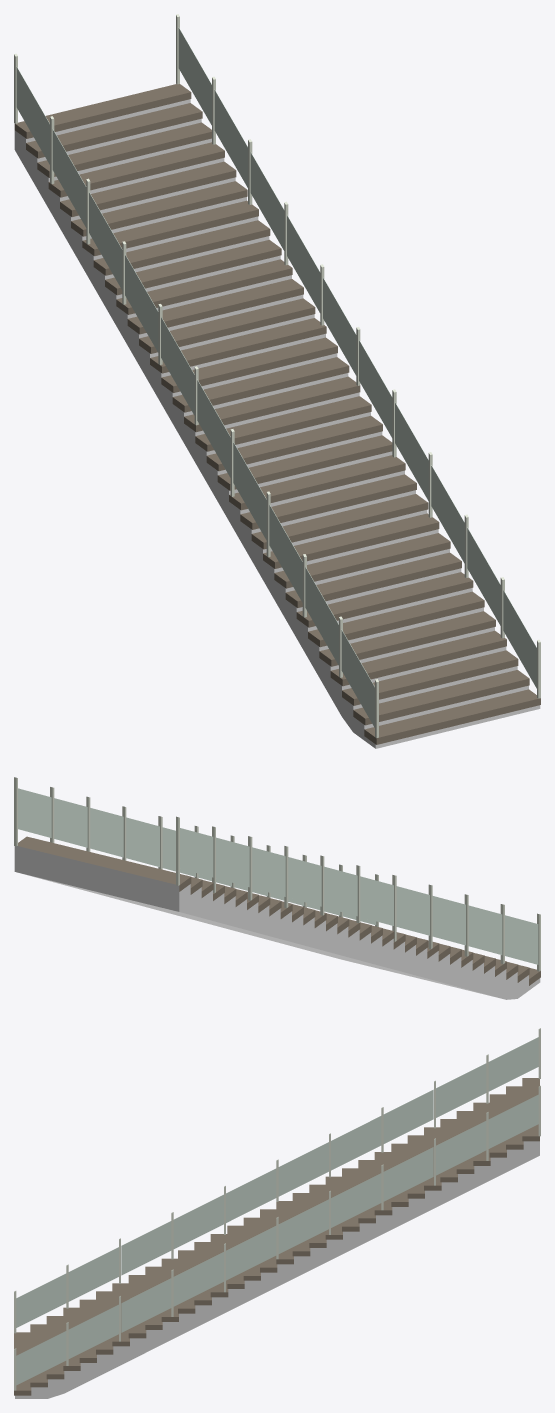
The model's file is stairsTest.fbx.
3 views of the same model, one above another, from view 1: azimuth 30°, elevation 25°; view 2: azimuth 150°, elevation 25°; view 3: azimuth 270°, elevation 25° (orthographic). The views are drawn at different scales.
Parts seen in each view (by area): view 1: Stair.001; view 2: Stair.001; view 3: Stair.001.
Part boxes in pixels (x1,y1,x2,y2): Stair.001: (14,14,540,748); Stair.001: (14,777,540,999); Stair.001: (14,1028,540,1398).
Size of the model in its own units: 253 by 632 by 966.
